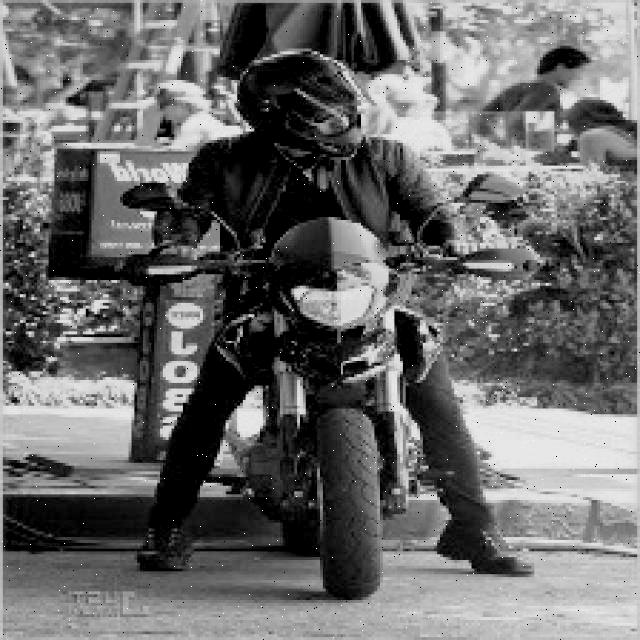Bike: (216, 247, 440, 607)
